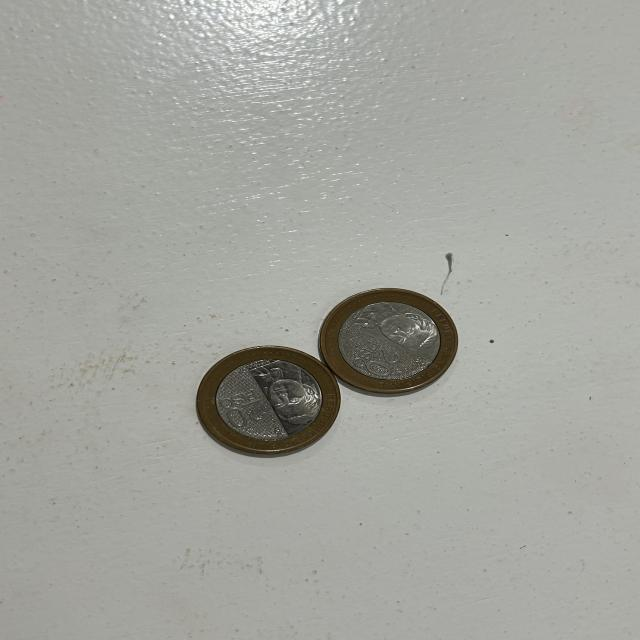20_New_Front: (214, 388, 284, 436), (346, 332, 402, 389)
